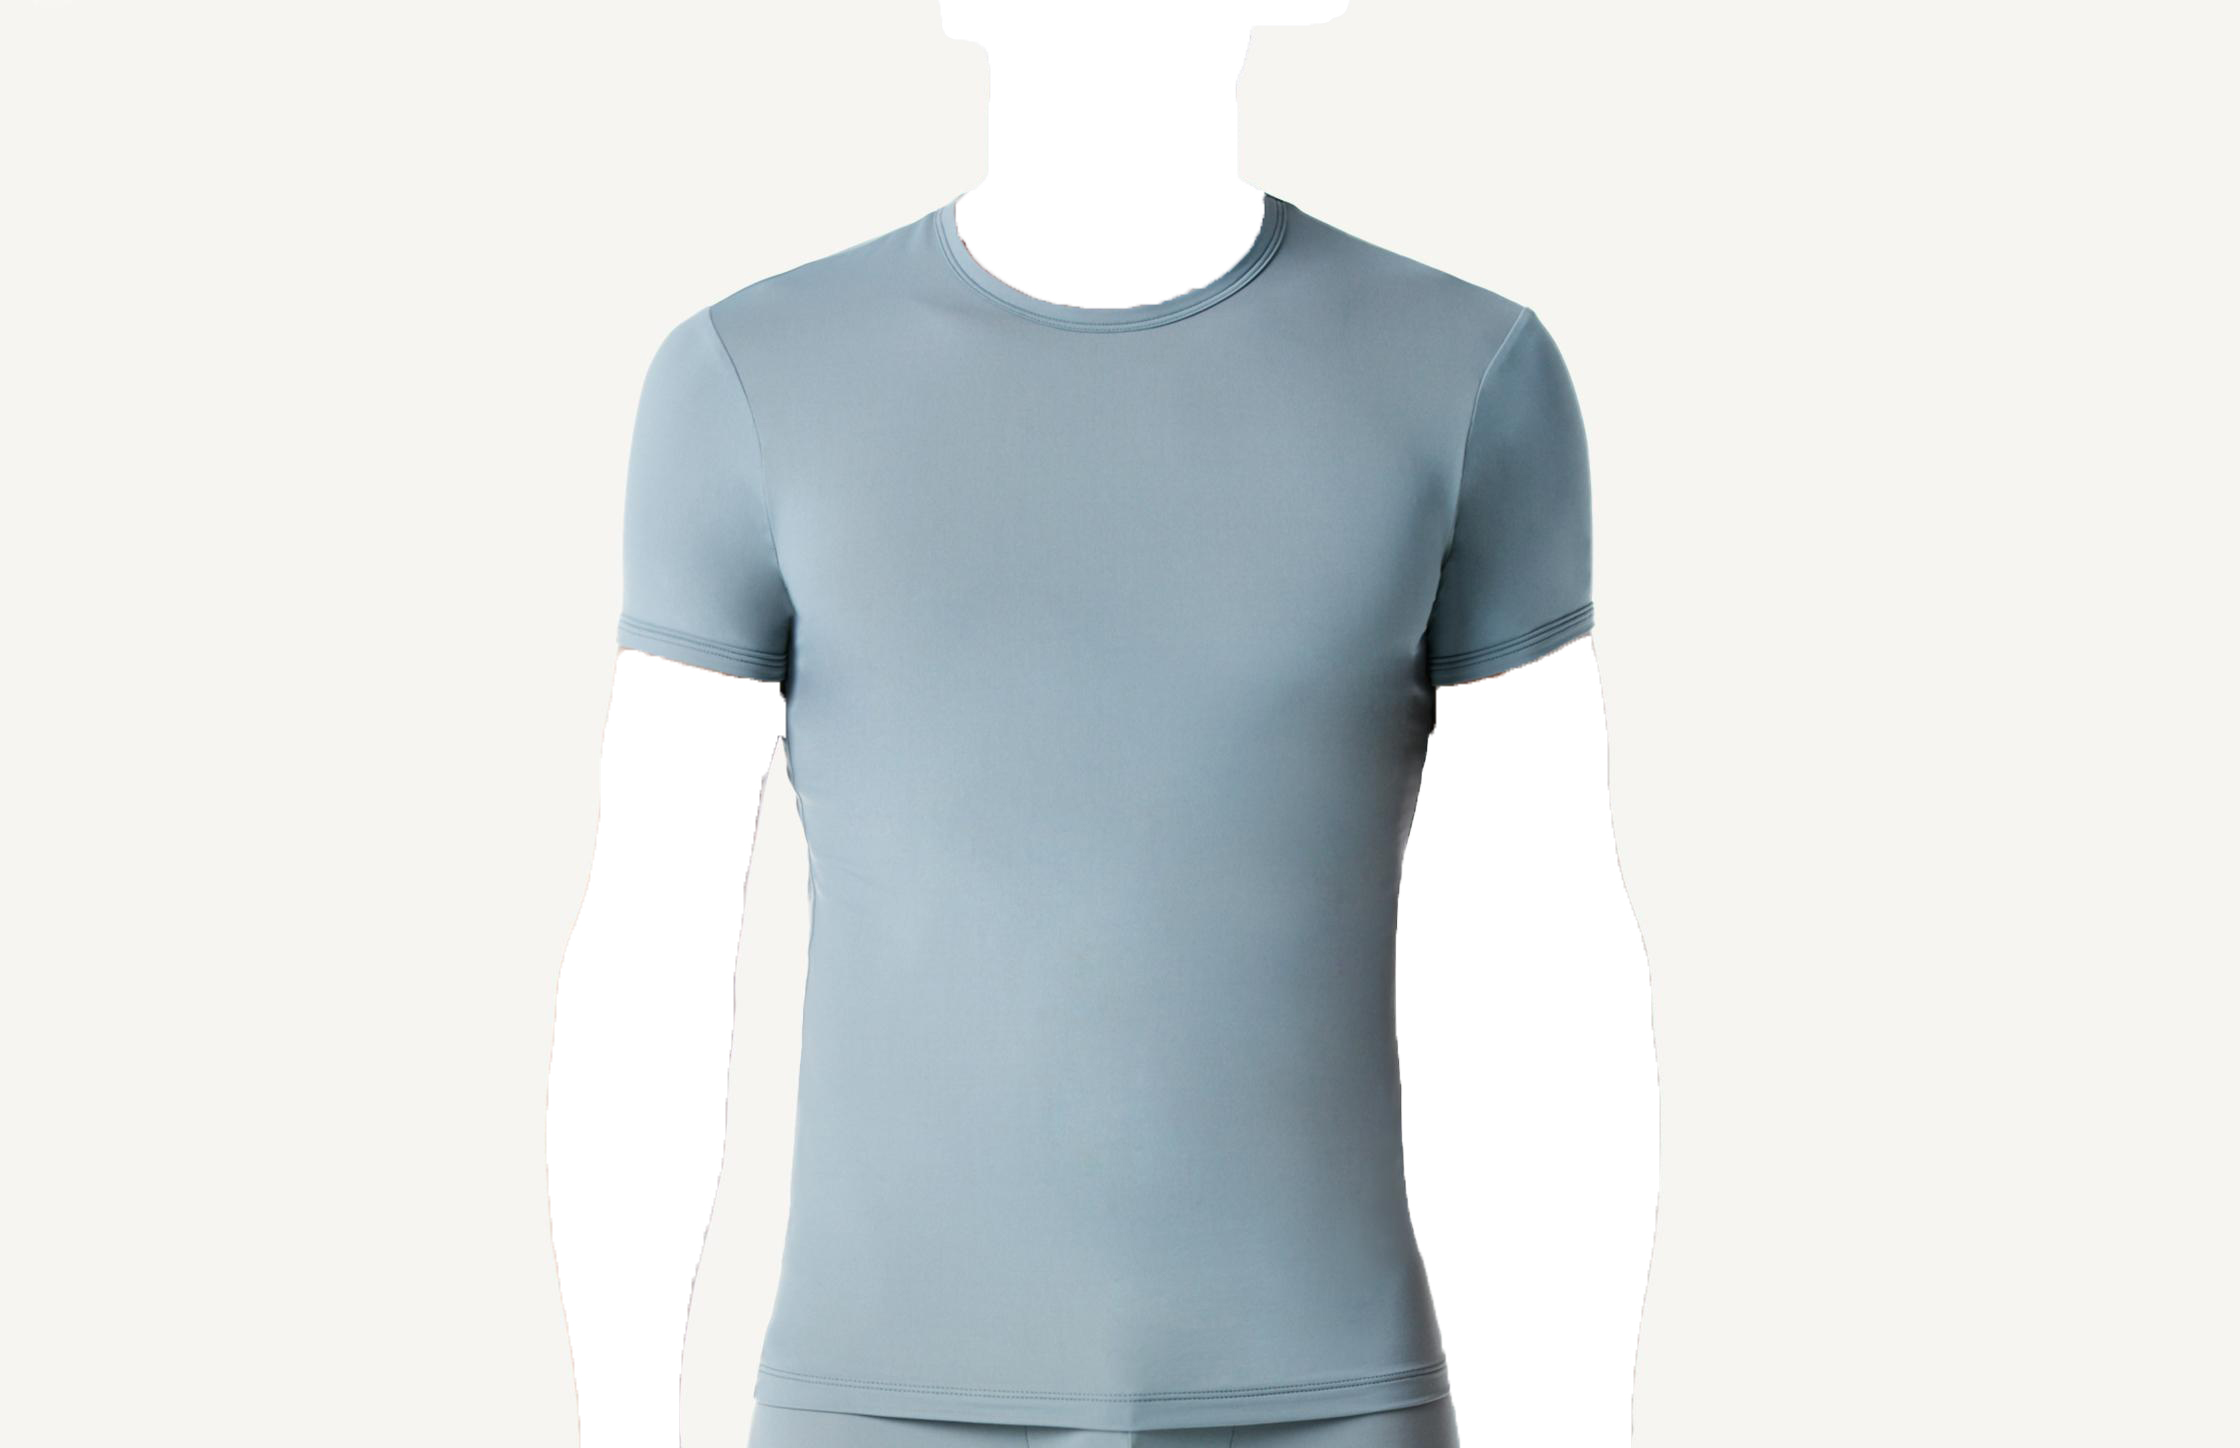teeshirt: (576, 196, 1607, 1445)
